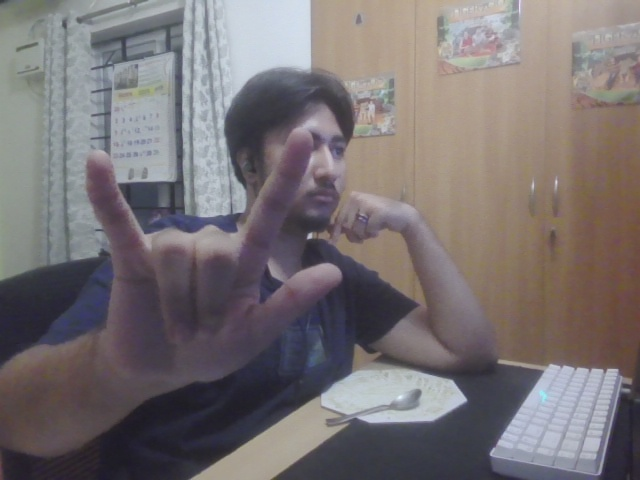iloveyou: (79, 125, 350, 396)
